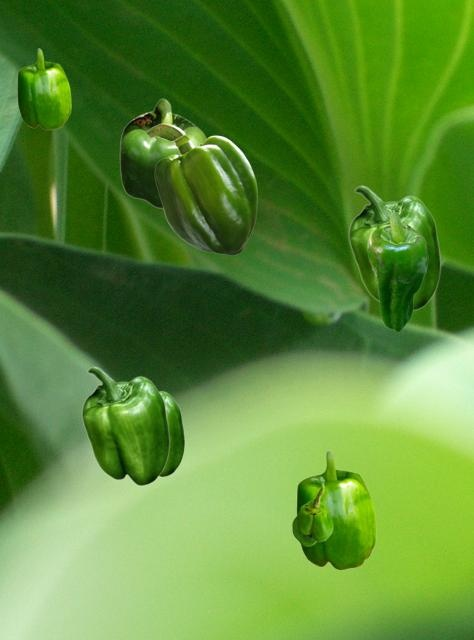bell_pepper: (145, 123, 256, 254), (348, 185, 440, 310), (81, 366, 169, 485), (119, 98, 206, 208), (296, 450, 375, 569), (367, 212, 427, 331), (17, 48, 70, 129), (292, 483, 332, 545), (160, 390, 184, 476)
